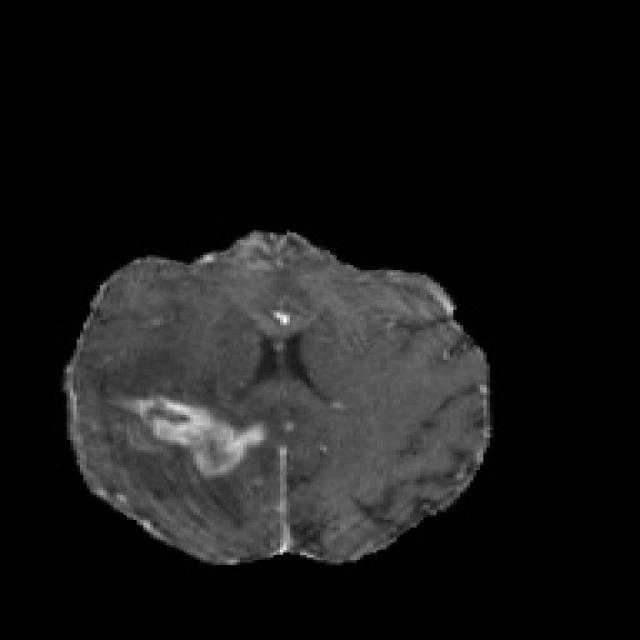positive: (133, 395, 267, 475)
